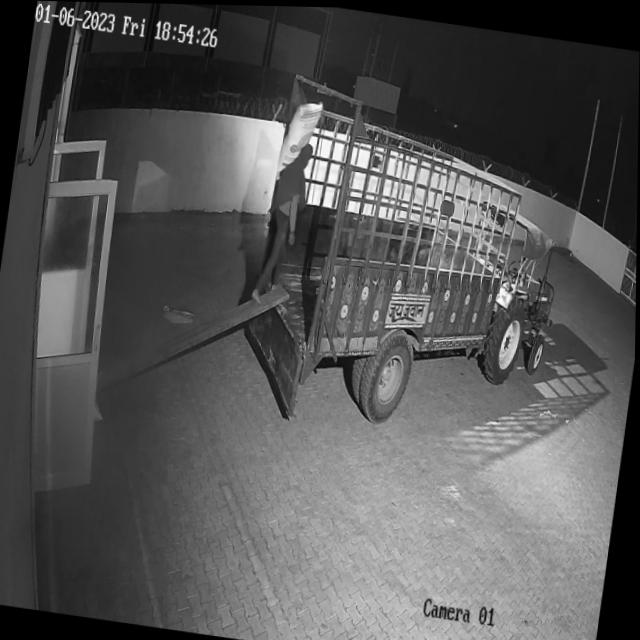sack: (274, 94, 321, 182)
